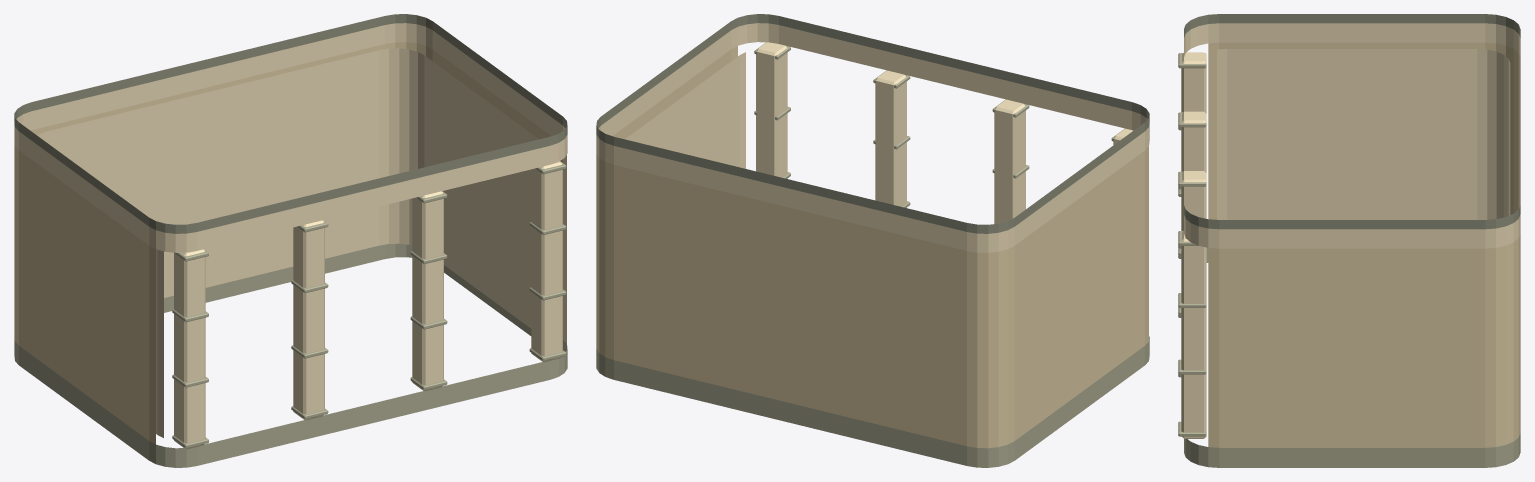
Rendered from HealingFacade.glb.
3 renders of one model, left to right at view 1: azimuth 30°, elevation 25°; view 2: azimuth 150°, elevation 25°; view 3: azimuth 270°, elevation 25°, orthographic.
Parts seen in each view (by area): view 1: HealingFacade; view 2: HealingFacade; view 3: HealingFacade.
Boxes of the visible parts, left/top/right/bottom form: HealingFacade: left=14, top=14, right=567, bottom=467; HealingFacade: left=596, top=14, right=1149, bottom=467; HealingFacade: left=1178, top=14, right=1520, bottom=467.
Size of the model in its own units: 5.7 by 3.2 by 4.
